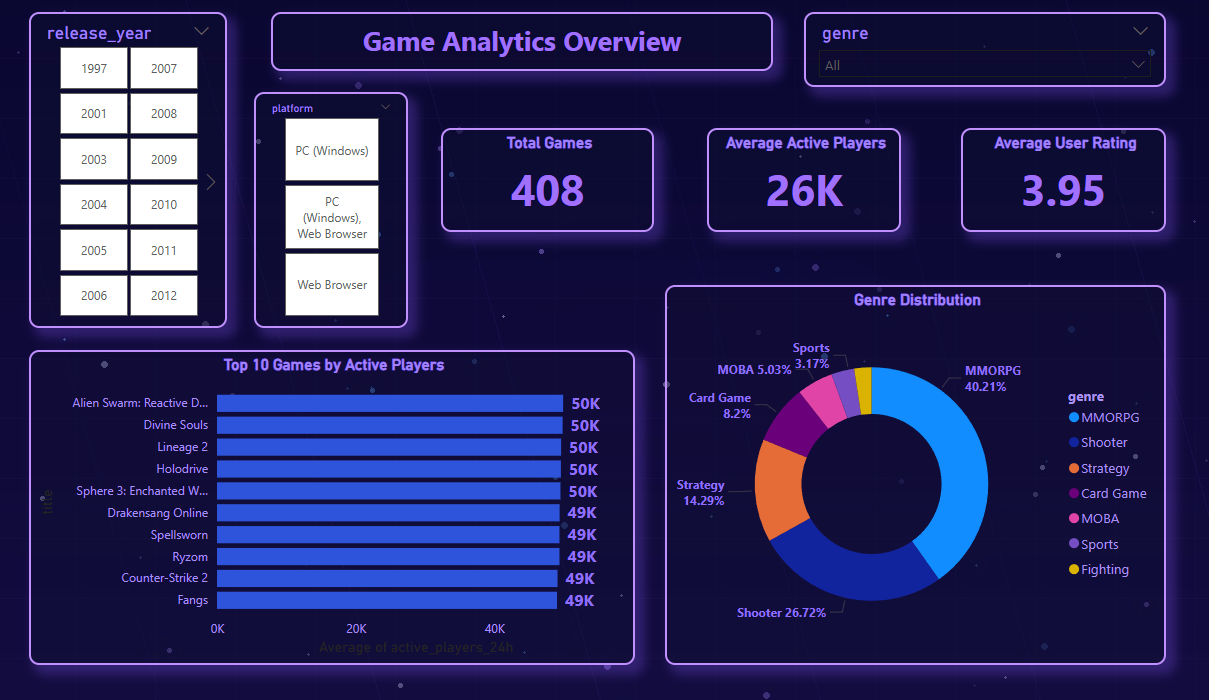

What the dashboard file says about the page in this screenshot:
{"tool":"powerbi","page":{"name":"Overview Dashboard","canvas":[1280,720],"ordinal":0},"visuals":[{"type":"card","title":"Total Games","fields":{"Values":["CountNonNull(games_data.title)"]},"box":[446.4,128.2,212.7,103.6],"z":0},{"type":"card","title":"Average User Rating","fields":{"Values":["Avg(games_data.user_rating)"]},"box":[966.4,128.2,204.5,103.6],"z":1000},{"type":"card","title":"Average Active Players","fields":{"Values":["Avg(games_data.active_players_24h)"]},"box":[711.8,128.2,194.5,103.6],"z":2000},{"type":"barChart","title":"Top 10 Games by Active Players","fields":{"Category":["games_data.title"],"Y":["Avg(games_data.active_players_24h)"]},"box":[33.6,350,606.4,315.5],"z":3000},{"type":"donutChart","title":"Genre Distribution","fields":{"Y":["CountNonNull(games_data.title)"],"Category":["games_data.genre"]},"box":[670,285.5,500.9,380],"z":4000},{"type":"slicer","fields":{"Values":["games_data.genre"]},"box":[809.1,11.8,361.8,75.5],"z":5000},{"type":"slicer","fields":{"Values":["games_data.platform"]},"box":[259.1,91.8,153.6,236.4],"z":6000},{"type":"slicer","fields":{"Values":["games_data.release_year"]},"box":[33.6,11.8,198.2,316.4],"z":7000},{"type":"textbox","box":[276.4,11.8,501.8,59.1],"z":8000}]}

Visuals, with their boxes in screenshot pixels (x1, y1, x2, y2), scaled from the page's 1280x720 canvas onto the 1209x700 screenshot:
"Total Games" card: bbox=(422, 125, 623, 225)
"Average User Rating" card: bbox=(913, 125, 1106, 225)
"Average Active Players" card: bbox=(672, 125, 856, 225)
"Top 10 Games by Active Players" barChart: bbox=(32, 340, 604, 647)
"Genre Distribution" donutChart: bbox=(633, 278, 1106, 647)
slicer - games_data.genre: bbox=(764, 11, 1106, 85)
slicer - games_data.platform: bbox=(245, 89, 390, 319)
slicer - games_data.release_year: bbox=(32, 11, 219, 319)
textbox: bbox=(261, 11, 735, 69)
